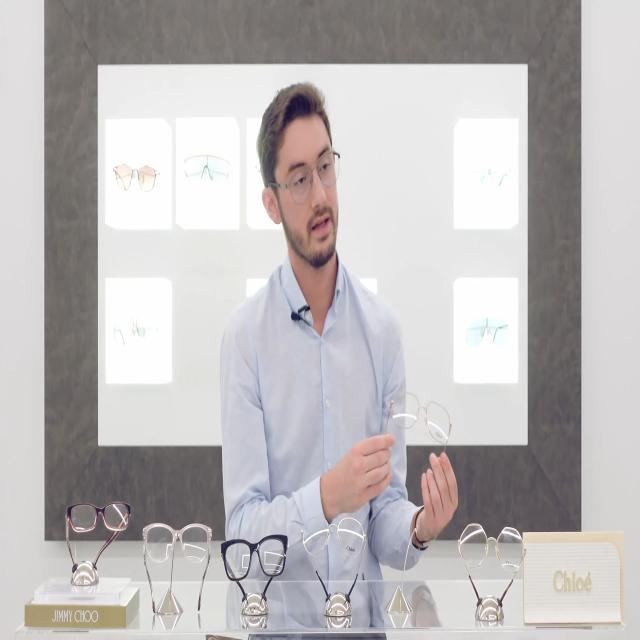dress: (218, 252, 427, 579)
glasses: (391, 388, 452, 446), (221, 532, 288, 582), (456, 522, 526, 568), (285, 147, 340, 203), (143, 520, 212, 564), (301, 511, 364, 559), (67, 496, 131, 532), (184, 151, 231, 187), (114, 160, 158, 194)
